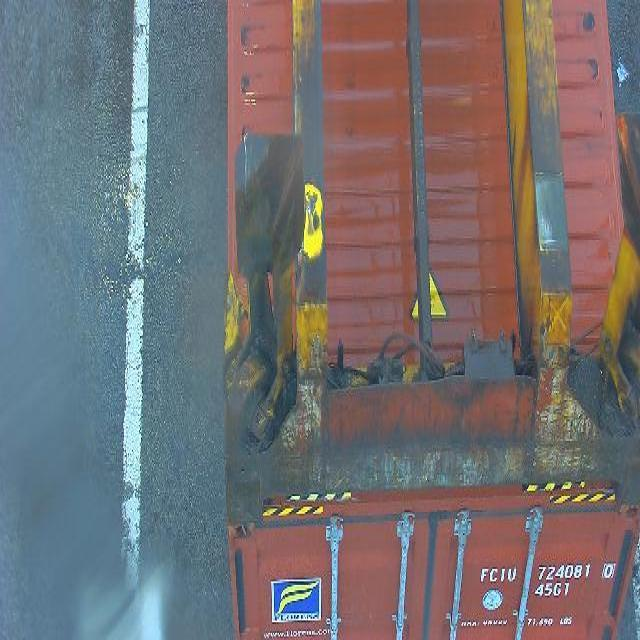ISO: (536, 580, 568, 603)
container_number: (484, 560, 624, 582)
